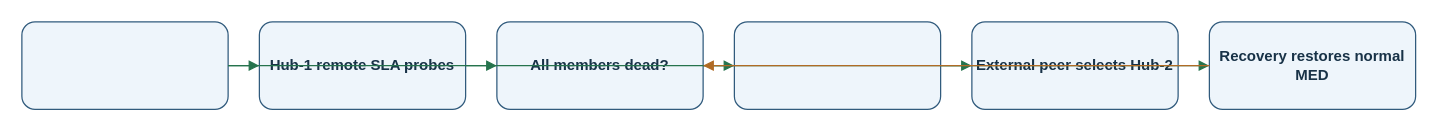
The diagram is 1438 pixels wide and 131 high, and some of its shapes have lost their labels. The shapes that lost their labels are listed below. From the top down, each one's box as (x1, y1, x2, y2) in pixels, then its label:
(21, 21, 228, 109): Spoke overlay members
(733, 21, 941, 109): BGP route-map sets MED 999
